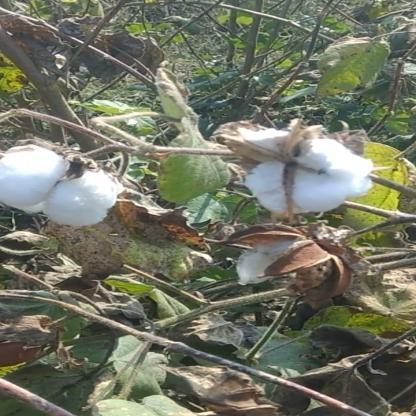cotton_ready: (214, 122, 386, 225), (4, 136, 114, 233)
